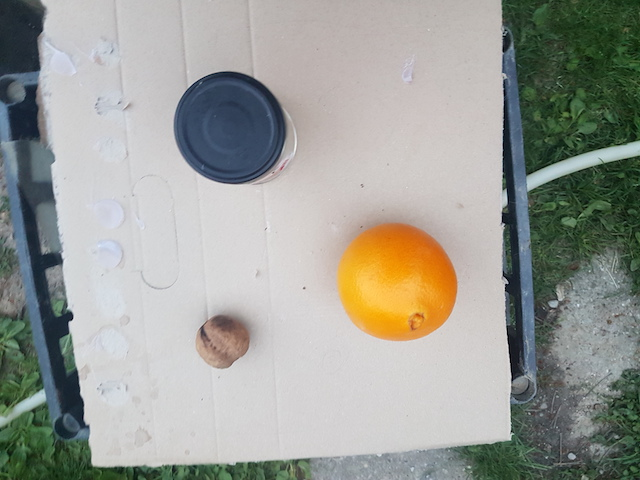nut: (196, 311, 250, 369)
orange: (334, 224, 460, 345)
recipient: (175, 71, 282, 185)
